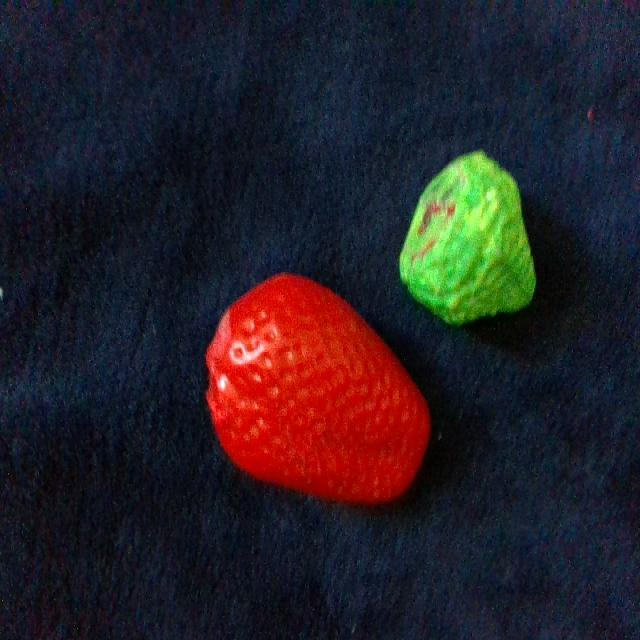grande_roja: (207, 275, 429, 501)
verde: (400, 151, 535, 324)
